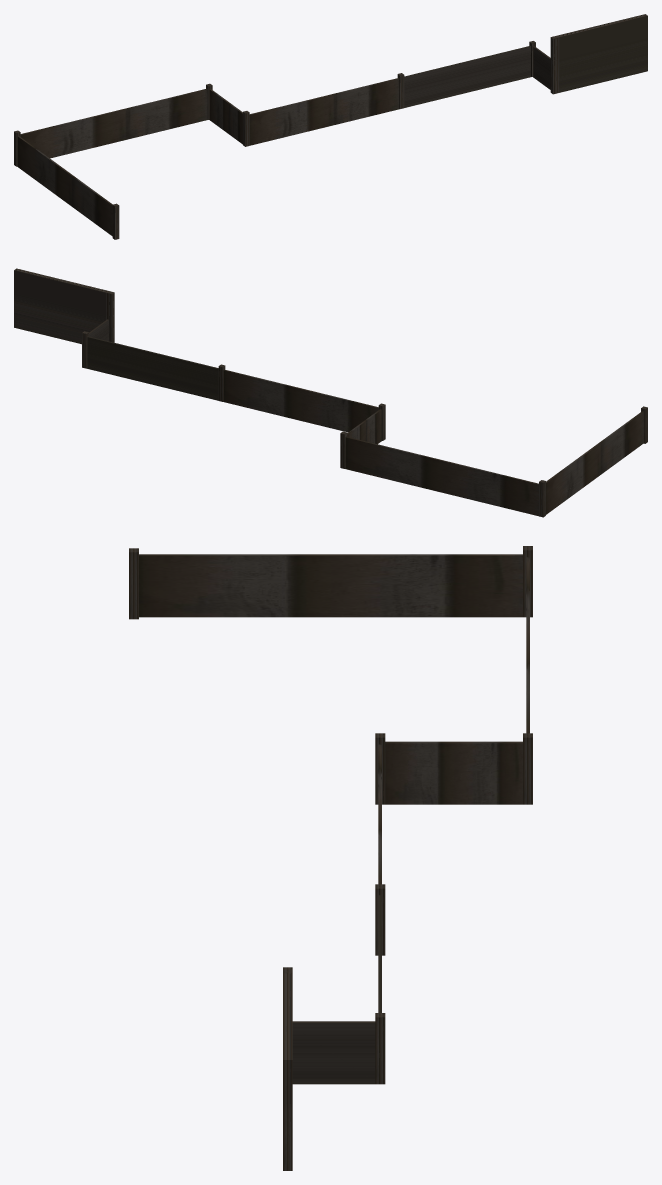
Rendered from GardenLargeFence.fbx.
The picture shows the model from 3 angles, top to bottom: view 1: azimuth 30°, elevation 25°; view 2: azimuth 150°, elevation 25°; view 3: azimuth 270°, elevation 25°; orthographic projection. The views are drawn at different scales.
Visible parts, largest first — view 1: LargeFence; view 2: LargeFence; view 3: LargeFence.
Part boxes in pixels (x1,y1,x2,y2): LargeFence: (14,14,647,239); LargeFence: (14,268,647,517); LargeFence: (129,546,532,1170).
Bounding box in the file's own units: 5359 × 506 × 1640.
